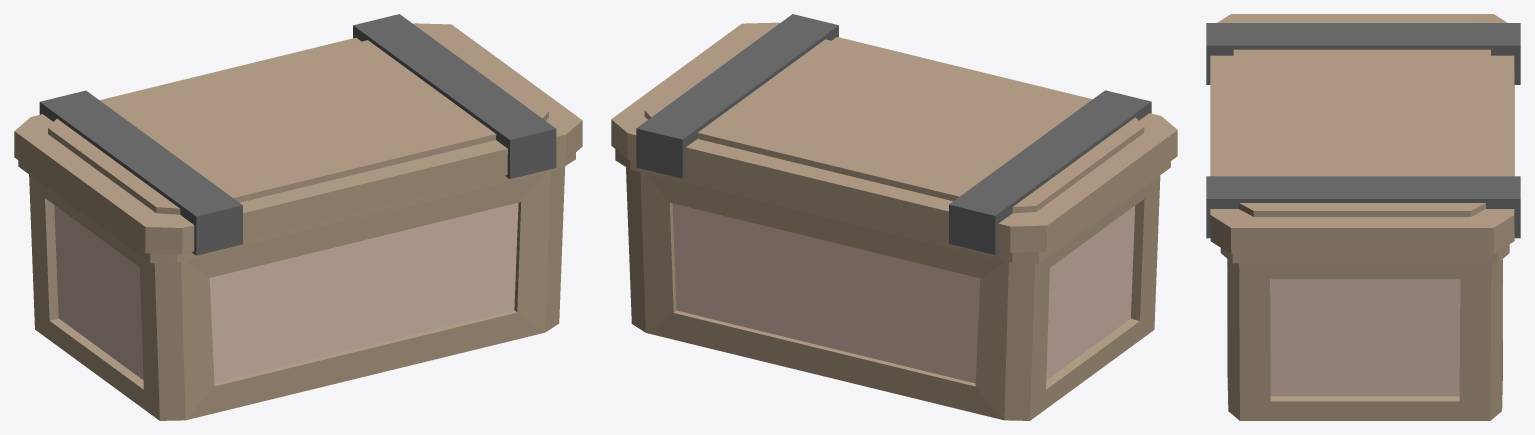
File: Ammo Crate.fbx
3 renders of one model, left to right at view 1: azimuth 30°, elevation 25°; view 2: azimuth 150°, elevation 25°; view 3: azimuth 270°, elevation 25°, orthographic.
Parts seen in each view (by area): view 1: Ammo Crate; view 2: Ammo Crate; view 3: Ammo Crate.
Part boxes in pixels (<box>): Ammo Crate: <box>14,14,582,420</box>; Ammo Crate: <box>611,14,1177,420</box>; Ammo Crate: <box>1206,14,1520,420</box>.
Bounding box in the file's own units: 325 × 151 × 202.
Materials: 1 (1 with a texture image).
